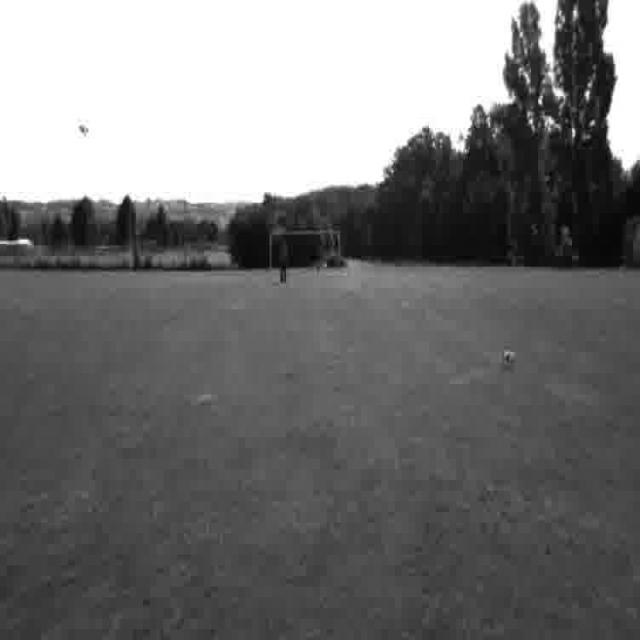drones: (484, 336, 526, 379)
